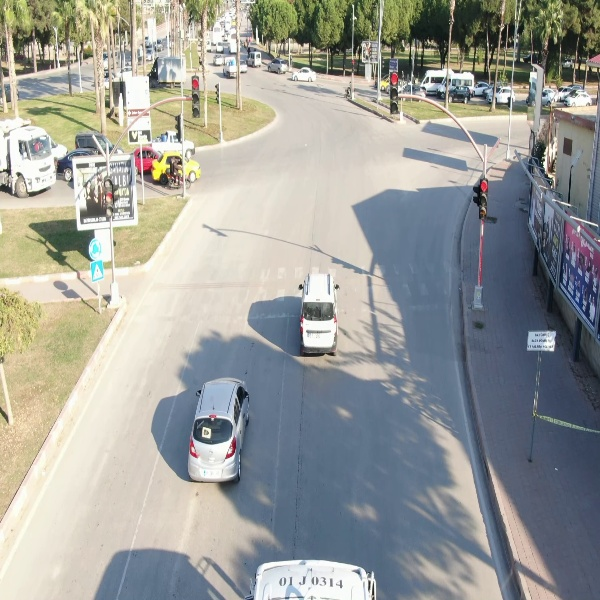car: (186, 377, 251, 484), (296, 272, 341, 356), (487, 85, 516, 106), (289, 65, 319, 84), (564, 89, 593, 108), (445, 85, 472, 104), (266, 57, 289, 76), (245, 49, 264, 68)
